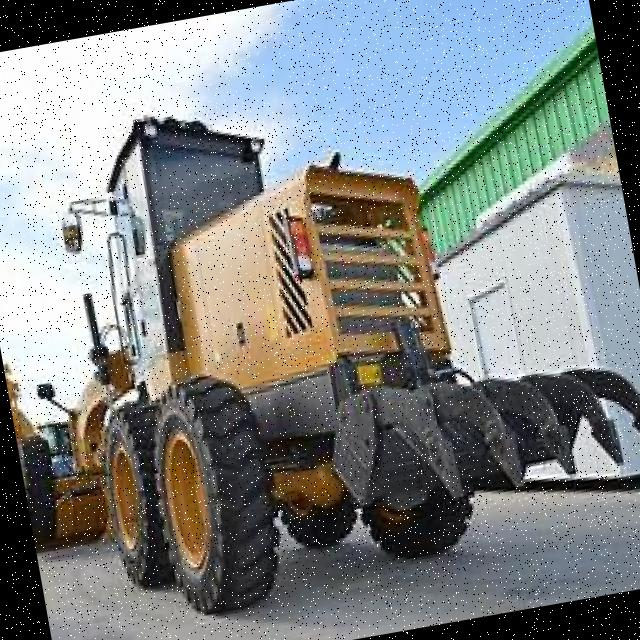Grader: (0, 40, 552, 640)
